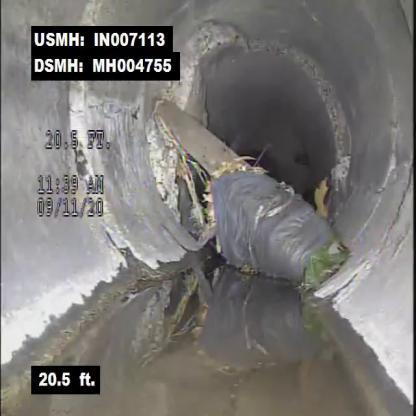Obstacle: (144, 89, 363, 300)
